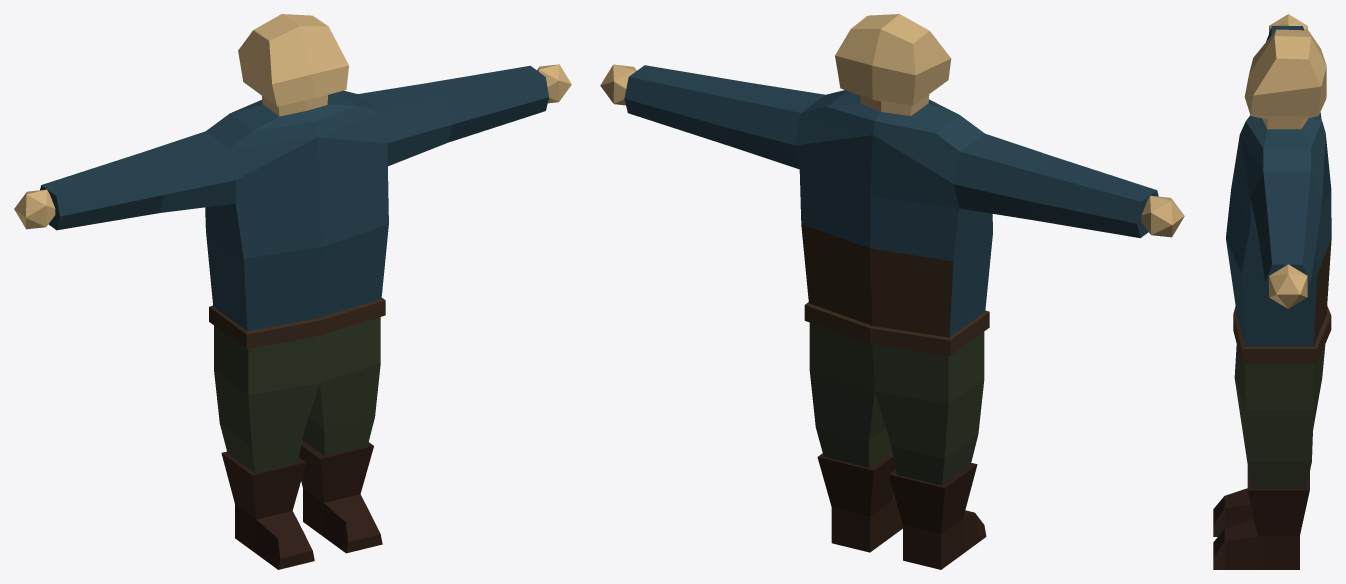
The model's file is Bouwer.fbx.
3 views of the same model, side by side, from view 1: azimuth 30°, elevation 25°; view 2: azimuth 150°, elevation 25°; view 3: azimuth 270°, elevation 25° (orthographic). The views are drawn at different scales.
Parts seen in each view (by area): view 1: Cube; view 2: Cube; view 3: Cube.
Part boxes in pixels (left/top/right/bottom): Cube: left=14, top=14, right=571, bottom=569; Cube: left=600, top=14, right=1184, bottom=569; Cube: left=1213, top=14, right=1331, bottom=569.
Size of the model in its own units: 2028 by 1805 by 380.
